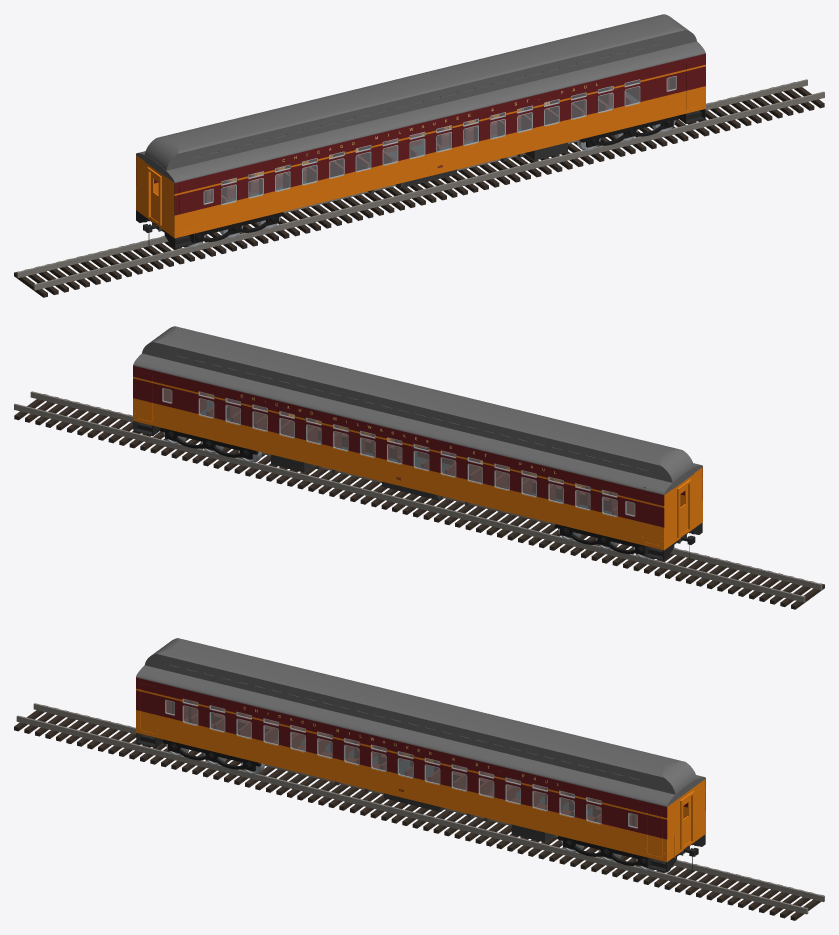
Rendered from MR1927_Coach436_G.glb.
The picture shows the model from 3 angles, top to bottom: view 1: azimuth 30°, elevation 25°; view 2: azimuth 150°, elevation 25°; view 3: azimuth 330°, elevation 25°; orthographic projection.
Parts seen in each view (by area): view 1: roof, orange, maroon, ties, rails, glass, interior, rims, trucks, equipment, steps, floor; view 2: roof, orange, maroon, ties, rails, glass, interior, rims, trucks, equipment, steps, floor; view 3: roof, orange, maroon, ties, rails, glass, interior, rims, trucks, equipment, floor, steps.
Boxes of the visible parts, x1,y1,x2,y2 form: roof: (136, 14, 705, 182); orange: (136, 64, 705, 238); maroon: (136, 53, 705, 215); ties: (14, 82, 824, 297); rails: (16, 79, 824, 290); glass: (204, 76, 675, 204); interior: (204, 76, 675, 203); rims: (203, 76, 676, 204); trucks: (194, 115, 678, 243); equipment: (395, 142, 567, 188); steps: (136, 109, 705, 248); floor: (150, 91, 638, 231); roof: (133, 326, 702, 494); orange: (133, 376, 702, 550); maroon: (133, 365, 702, 527); ties: (14, 394, 824, 609); rails: (14, 391, 822, 602); glass: (163, 388, 634, 516); interior: (163, 388, 645, 515); rims: (162, 388, 635, 516); trucks: (160, 428, 644, 555); equipment: (271, 454, 443, 500); steps: (133, 421, 702, 560); floor: (200, 400, 687, 543); roof: (136, 638, 705, 806); orange: (136, 688, 705, 862); maroon: (136, 677, 705, 839); ties: (14, 705, 823, 920); rails: (16, 703, 824, 914); glass: (165, 699, 637, 827); interior: (166, 699, 637, 826); rims: (165, 698, 637, 828); trucks: (163, 739, 646, 867); equipment: (384, 793, 554, 842); floor: (211, 719, 690, 855); steps: (136, 733, 705, 872).
Bounding box in the file's own units: 1.22 × 0.1609 × 0.1046.
